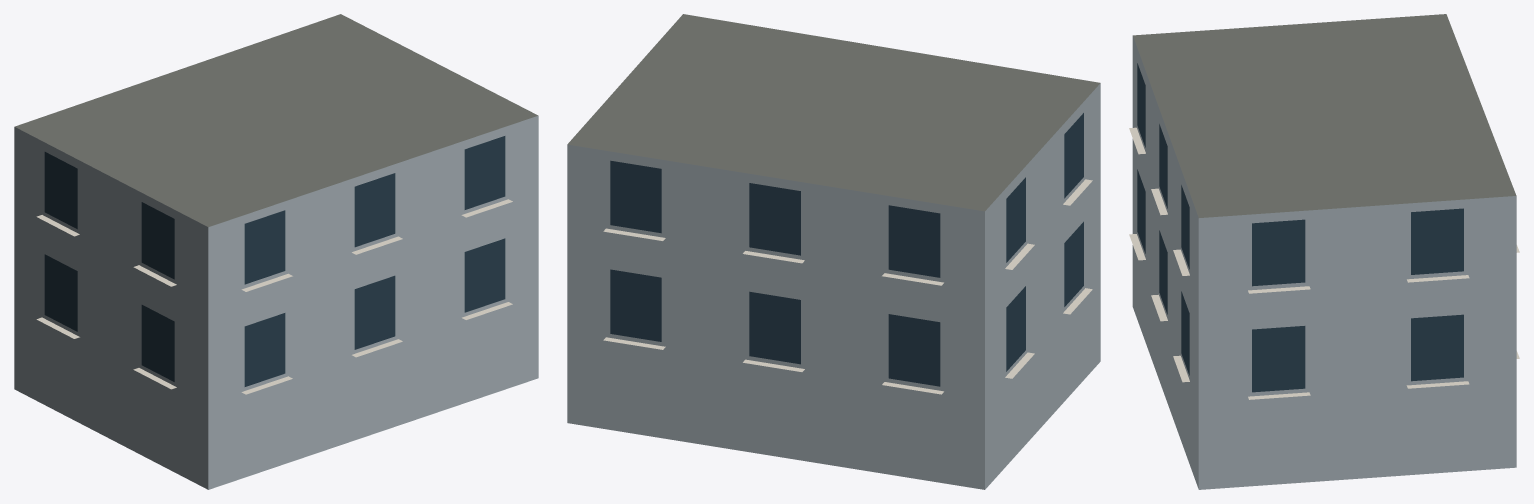
The picture shows the model from 3 angles, left to right: view 1: azimuth 30°, elevation 25°; view 2: azimuth 150°, elevation 25°; view 3: azimuth 270°, elevation 25°; orthographic projection. The views are drawn at different scales.
Parts seen in each view (by area): view 1: Footprint 0, Inferred window bays, Window sills; view 2: Footprint 0, Inferred window bays, Window sills; view 3: Footprint 0, Inferred window bays, Window sills.
Part boxes in pixels (x1=…): Footprint 0: x1=14, y1=14, x2=538, y2=489; Inferred window bays: x1=44, y1=136, x2=505, y2=386; Window sills: x1=36, y1=199, x2=512, y2=394; Footprint 0: x1=567, y1=14, x2=1100, y2=489; Inferred window bays: x1=610, y1=113, x2=1083, y2=386; Window sills: x1=603, y1=179, x2=1092, y2=394; Footprint 0: x1=1132, y1=14, x2=1516, y2=489; Inferred window bays: x1=1137, y1=63, x2=1463, y2=392; Window sills: x1=1129, y1=127, x2=1519, y2=399.
Size of the model in its own units: 11.24 by 6.91 by 9.01.
